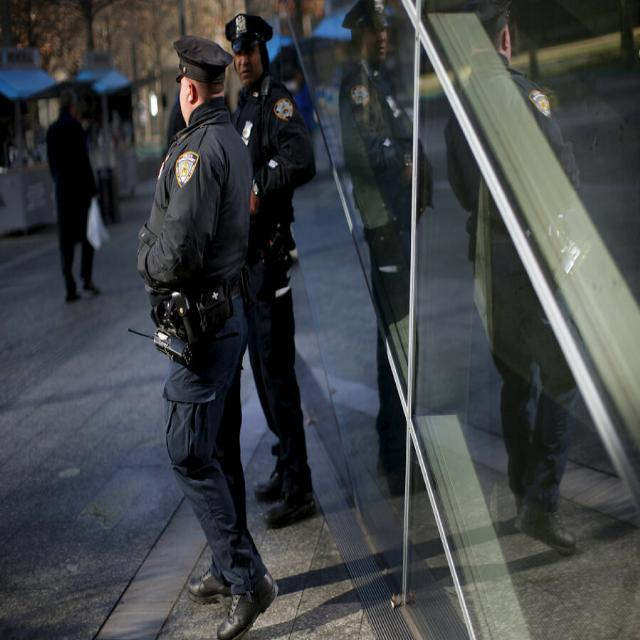police: (123, 13, 273, 640), (223, 8, 314, 548)
